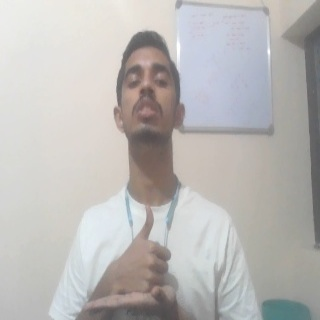Face: (112, 29, 186, 144)
Help: (83, 203, 180, 313)
